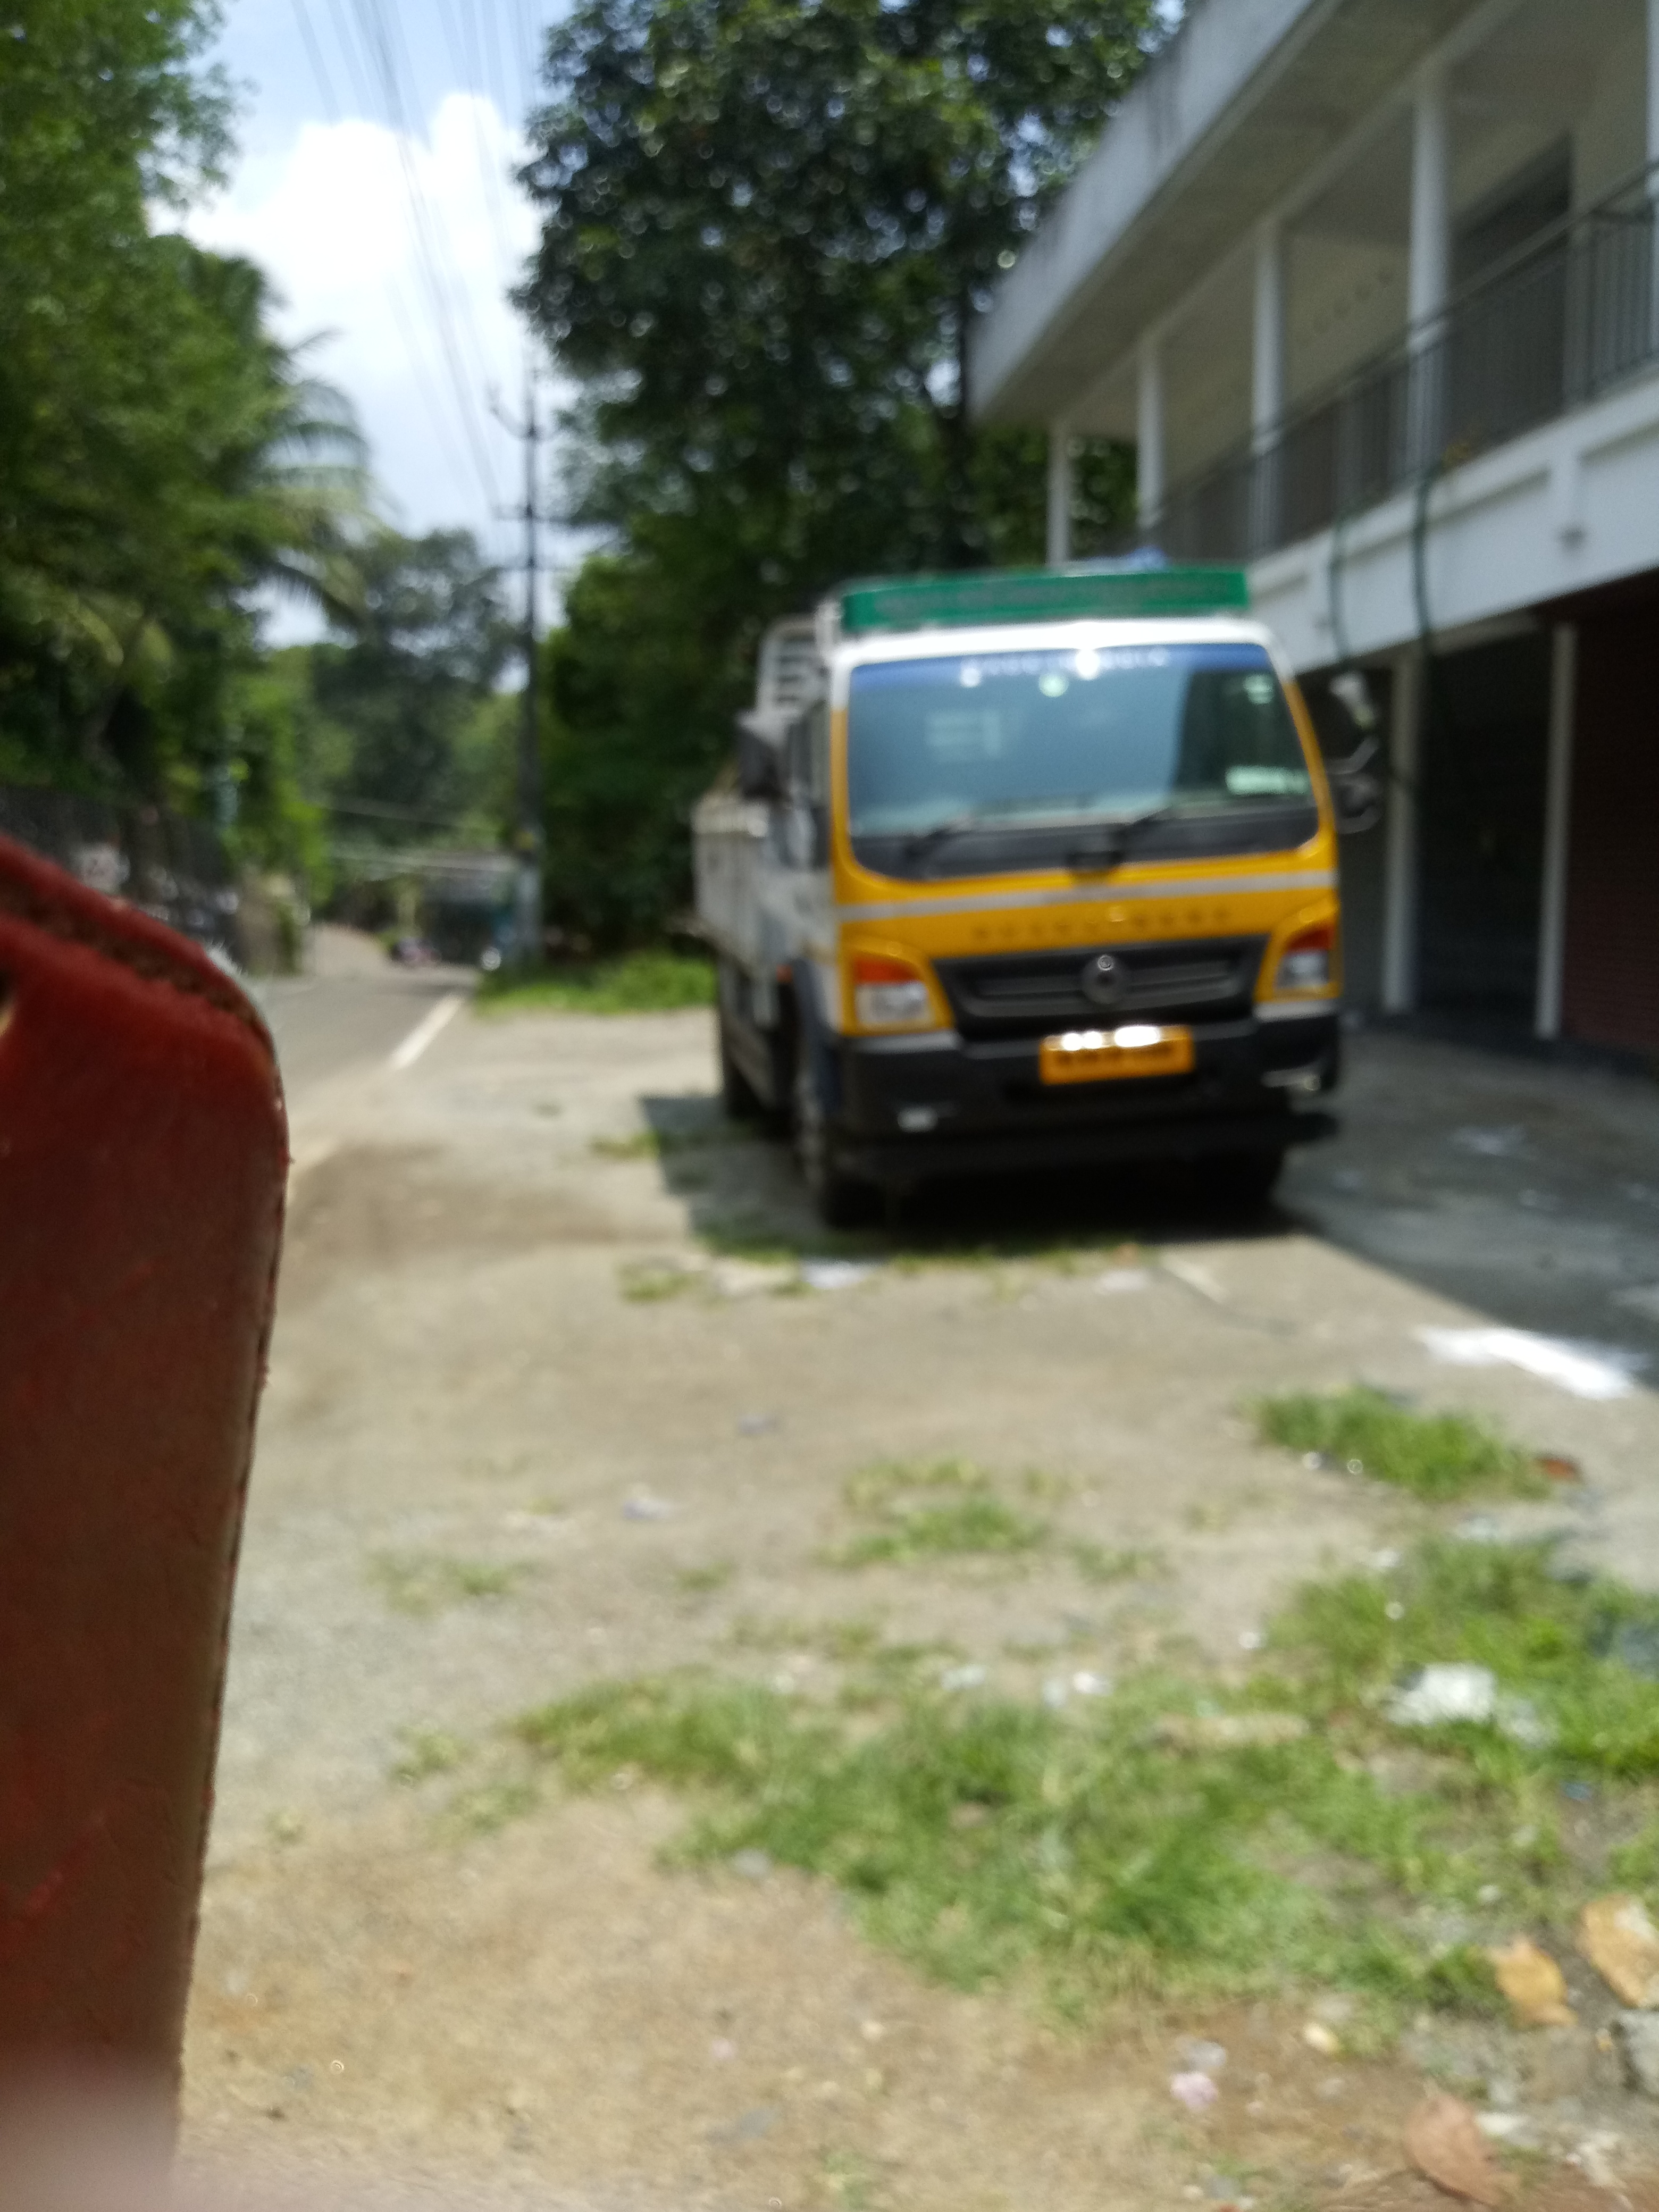truck: (683, 543, 1391, 1233)
